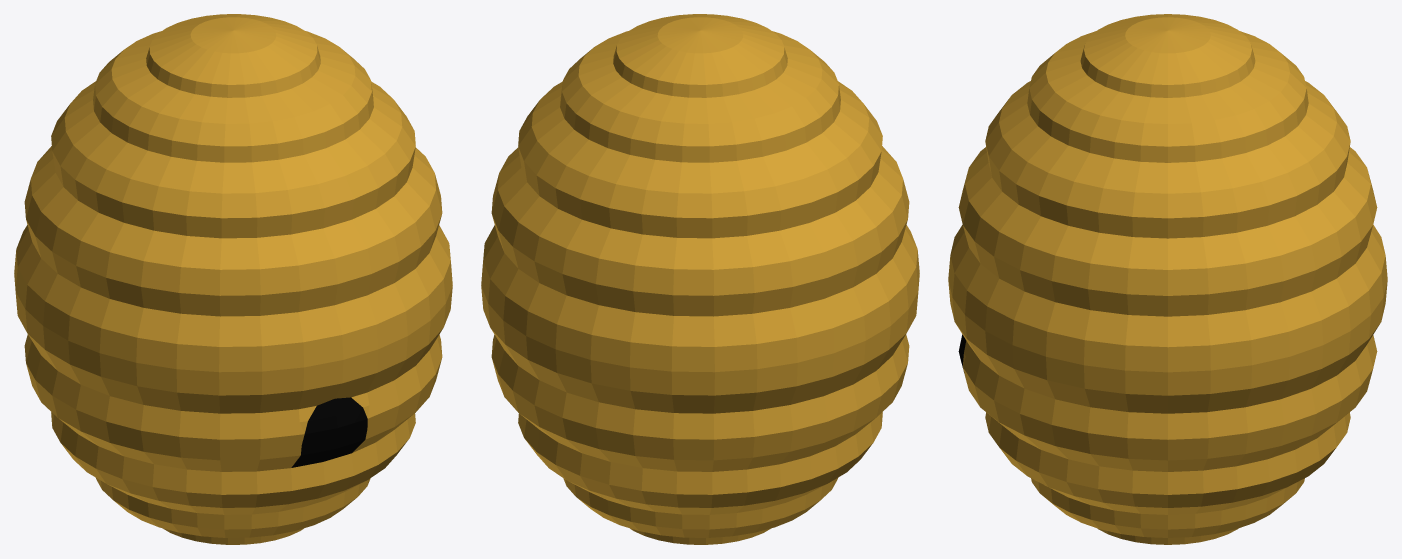
Rendered from Import_Beehive.fbx.
The picture shows the model from 3 angles, left to right: view 1: azimuth 30°, elevation 25°; view 2: azimuth 150°, elevation 25°; view 3: azimuth 270°, elevation 25°; orthographic projection.
Parts seen in each view (by area): view 1: Sphere; view 2: Sphere; view 3: Sphere.
Part boxes in pixels (x1,y1,x2,y2): Sphere: [14, 14, 452, 544]; Sphere: [481, 14, 919, 544]; Sphere: [948, 14, 1387, 544].
Bounding box in the file's own units: 2 × 2.5 × 2.
